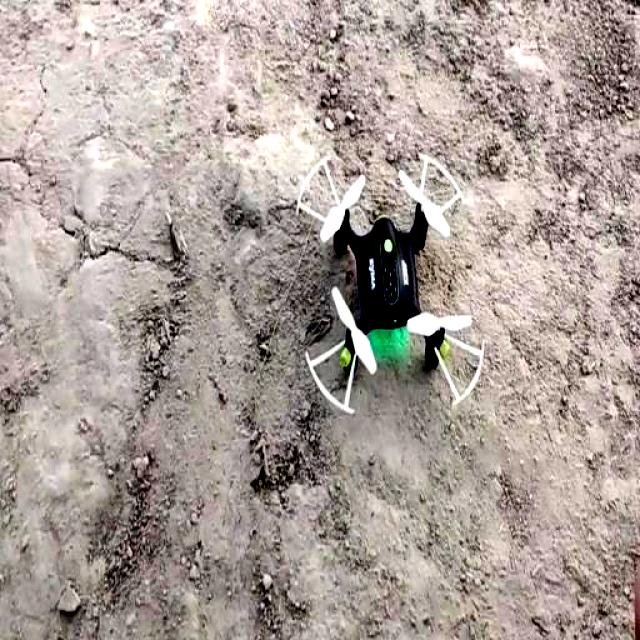bird: (290, 138, 485, 431)
